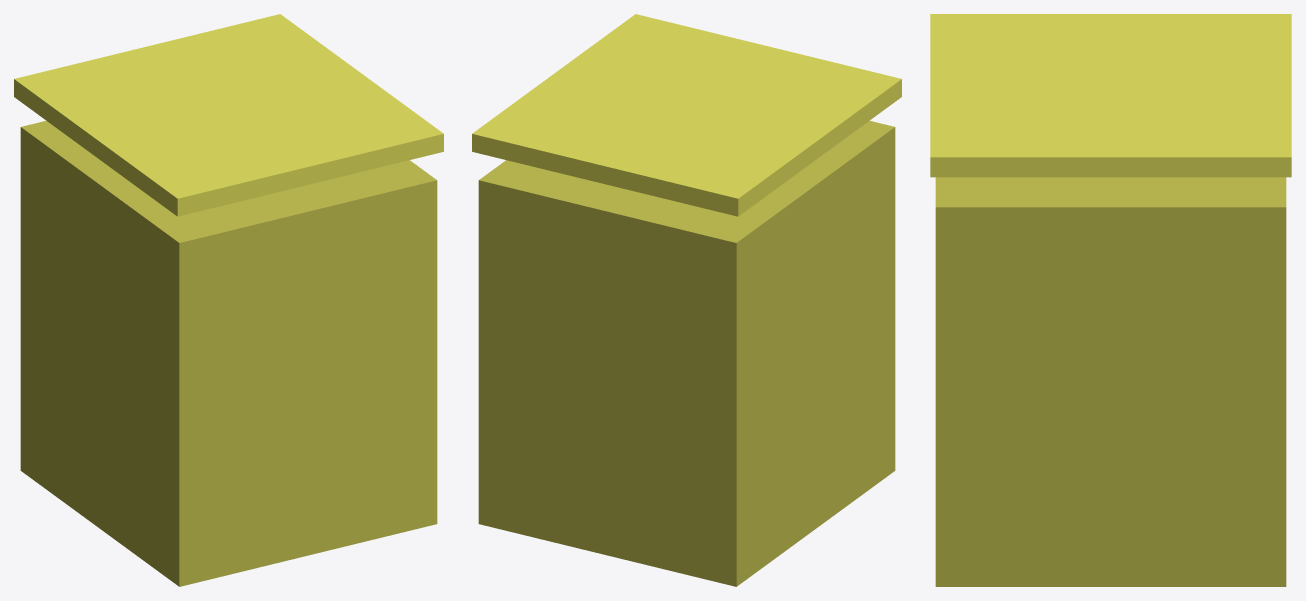
Rendered from eteks-kitchencabinet.glb.
The picture shows the model from 3 angles, left to right: view 1: azimuth 30°, elevation 25°; view 2: azimuth 150°, elevation 25°; view 3: azimuth 270°, elevation 25°; orthographic projection. The views are drawn at different scales.
Size of the model in its own units: 62 by 87 by 66.
